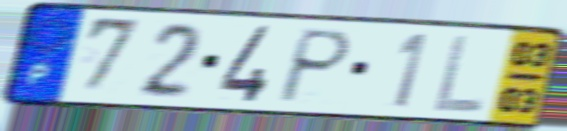1: (394, 32, 431, 112)
2: (134, 20, 205, 100)
4: (217, 24, 276, 104)
7: (81, 14, 146, 100)
L: (430, 32, 488, 115)
P: (273, 27, 355, 106)
